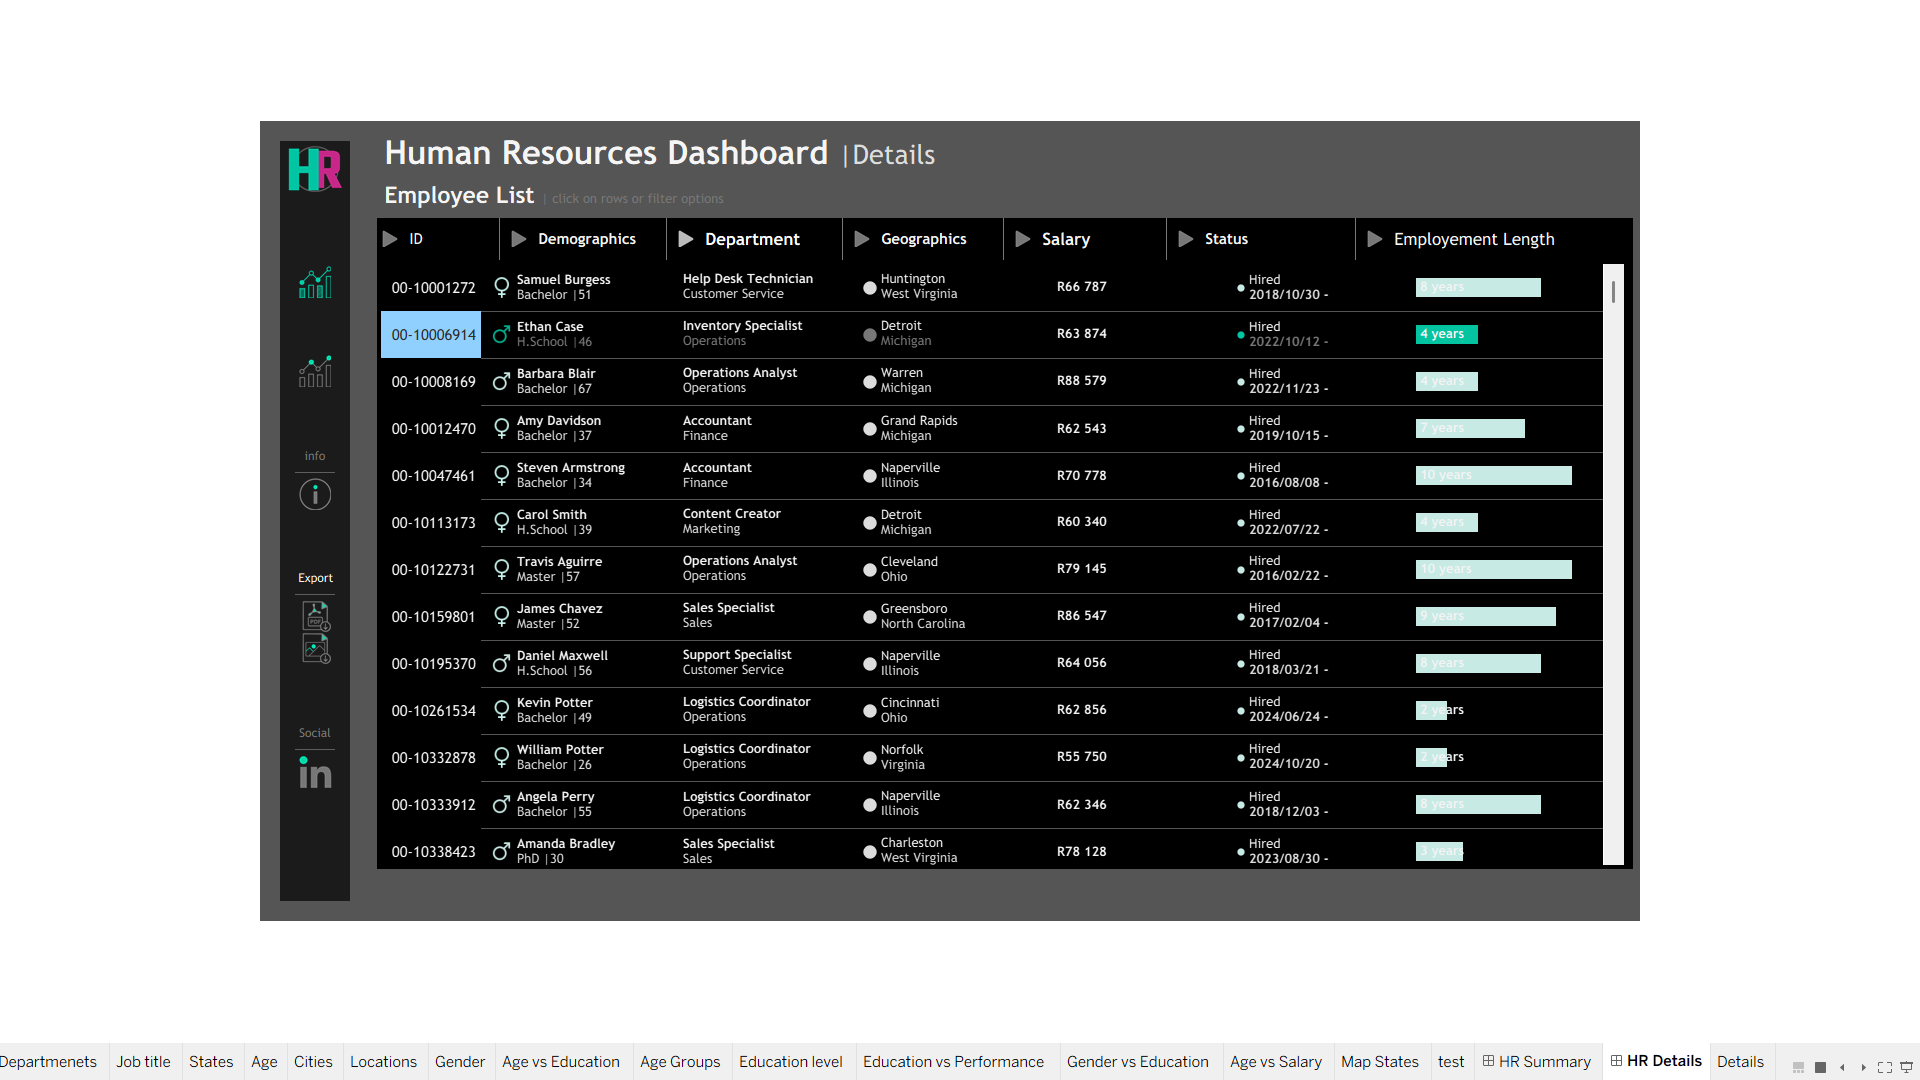

Layout of this report page (visuals, bound fields, positions):
{"tool":"tableau","page":{"name":"HR Details","canvas":[1400,800],"ordinal":0},"visuals":[{"type":"text","box":[117,7,676,49]},{"type":"blank","box":[793,7,580,49]},{"type":"image","param":"Image/Logo.png","box":[20,20,70,55]},{"type":"text","box":[117,56,1256,41]},{"type":"blank","box":[20,75,70,60]},{"type":"dashboard-object","box":[117,97,25,42]},{"type":"text","box":[142,97,91,42]},{"type":"blank","box":[233,97,13,254]},{"type":"dashboard-object","box":[246,97,25,42]},{"type":"text","box":[271,97,129,42]},{"type":"blank","box":[400,97,13,254]},{"type":"dashboard-object","box":[413,97,25,42]},{"type":"text","box":[438,97,138,42]},{"type":"blank","box":[576,97,13,254]},{"type":"dashboard-object","box":[589,97,25,42]},{"type":"text","box":[614,97,123,42]},{"type":"blank","box":[737,97,13,254]},{"type":"dashboard-object","box":[750,97,25,42]},{"type":"text","box":[775,97,125,42]},{"type":"blank","box":[900,97,13,254]},{"type":"dashboard-object","box":[913,97,25,42]},{"type":"text","box":[937.9,97,151,42]},{"type":"blank","box":[1088.9,97,13,254]},{"type":"dashboard-object","box":[1101.9,97,25,42]},{"type":"text","box":[1126.9,97,201,42]},{"type":"filter","title":"Details","param":"[federated.1f1amyv13imfoo151mt8w1kifsjf].[none:Calculation_2092984874586118:nk]","box":[585,116,148,49]},{"type":"filter","title":"Details","param":"[federated.1f1amyv13imfoo151mt8w1kifsjf].[sum:Salary:qk]","box":[746,116,150,68]},{"type":"filter","title":"Details","param":"[federated.1f1amyv13imfoo151mt8w1kifsjf].[none:Calculation_0745258869231616:nk]","box":[909,116,176,49]},{"type":"filter","title":"Details","param":"[federated.1f1amyv13imfoo151mt8w1kifsjf].[sum:Calculation_0047619442745344:qk]","box":[1097.9,116,226,68]},{"type":"filter","title":"Details","param":"[federated.1f1amyv13imfoo151mt8w1kifsjf].[none:Employee_ID:nk]","box":[117,139,116,53]},{"type":"filter","title":"Details","param":"[federated.1f1amyv13imfoo151mt8w1kifsjf].[none:Calculation_1135311092146178:nk]","box":[246,139,154,53]},{"type":"filter","title":"Details","param":"[federated.1f1amyv13imfoo151mt8w1kifsjf].[none:Department:nk]","box":[413,139,163,56]},{"type":"dashboard-object","box":[30,145,50,32]},{"type":"filter","title":"Details","param":"[federated.1f1amyv13imfoo151mt8w1kifsjf].[none:State:nk]","box":[585,165,148,49]},{"type":"filter","title":"Details","param":"[federated.1f1amyv13imfoo151mt8w1kifsjf].[none:Hiredate:ok]","box":[909,165,176,49]},{"type":"blank","box":[30,177,50,57.5]},{"type":"filter","title":"Details","param":"[federated.1f1amyv13imfoo151mt8w1kifsjf].[none:Calculation_2092984888410122:nk]","box":[246,192,154,53]},{"type":"filter","title":"Details","param":"[federated.1f1amyv13imfoo151mt8w1kifsjf].[none:Job Title:nk]","box":[413,195,163,56]},{"type":"filter","title":"Details","param":"[federated.1f1amyv13imfoo151mt8w1kifsjf].[none:City:nk]","box":[585,214,148,49]},{"type":"filter","title":"Details","param":"[federated.1f1amyv13imfoo151mt8w1kifsjf].[none:Termdate:ok]","box":[909,214,176,49]},{"type":"dashboard-object","box":[30,234.5,50,32]},{"type":"filter","title":"Details","param":"[federated.1f1amyv13imfoo151mt8w1kifsjf].[none:Education Level:nk]","box":[246,245,154,53]},{"type":"text","box":[92,256,1277,288]},{"type":"blank","box":[30,266.5,50,57.5]},{"type":"filter","title":"Details","param":"[federated.1f1amyv13imfoo151mt8w1kifsjf].[none:Gender:nk]","box":[246,298,154,53]},{"type":"text","box":[30,324,50,22]},{"type":"blank","box":[30,346,50,11]},{"type":"worksheet","title":"Details","mark":"Shape","rows":["Employee_ID"],"cols":["Calculation_1135311091269633","Calculation_1135311091269633","Calculation_1135311091269633","Calculation_1135311091269633","Calculation_1135311091269633","Calculation_0047619442745344"],"box":[117,351,1256,397]},{"type":"dashboard-object","box":[30,357,50,32]},{"type":"blank","box":[30,389,50,57.5]},{"type":"text","box":[30,446.5,50,22]},{"type":"blank","box":[30,468.5,50,11]},{"type":"dashboard-object","box":[30,479.5,50,32]},{"type":"dashboard-object","box":[30,511.5,50,32]},{"type":"blank","box":[30,543.5,50,57.5]},{"type":"text","box":[30,601,50,22]},{"type":"blank","box":[30,623,50,11]},{"type":"image","param":"Image/contact-linkedin.png","box":[30,634,50,34]}]}

Visuals, with their boxes on the page's 1400x800 design canvas (x1, y1, x2, y2). These are canvas units, not pixel positions in the 1920x1080 screenshot, which may show the page scaled, cropped or inside an application window:
text: 117:7:793:56
blank: 793:7:1373:56
image: 20:20:90:75
text: 117:56:1373:97
blank: 20:75:90:135
dashboard-object: 117:97:142:139
text: 142:97:233:139
blank: 233:97:246:351
dashboard-object: 246:97:271:139
text: 271:97:400:139
blank: 400:97:413:351
dashboard-object: 413:97:438:139
text: 438:97:576:139
blank: 576:97:589:351
dashboard-object: 589:97:614:139
text: 614:97:737:139
blank: 737:97:750:351
dashboard-object: 750:97:775:139
text: 775:97:900:139
blank: 900:97:913:351
dashboard-object: 913:97:938:139
text: 938:97:1089:139
blank: 1089:97:1102:351
dashboard-object: 1102:97:1127:139
text: 1127:97:1328:139
"Details" filter: 585:116:733:165
"Details" filter: 746:116:896:184
"Details" filter: 909:116:1085:165
"Details" filter: 1098:116:1324:184
"Details" filter: 117:139:233:192
"Details" filter: 246:139:400:192
"Details" filter: 413:139:576:195
dashboard-object: 30:145:80:177
"Details" filter: 585:165:733:214
"Details" filter: 909:165:1085:214
blank: 30:177:80:234
"Details" filter: 246:192:400:245
"Details" filter: 413:195:576:251
"Details" filter: 585:214:733:263
"Details" filter: 909:214:1085:263
dashboard-object: 30:234:80:266
"Details" filter: 246:245:400:298
text: 92:256:1369:544
blank: 30:266:80:324
"Details" filter: 246:298:400:351
text: 30:324:80:346
blank: 30:346:80:357
"Details" worksheet (Shape marks): 117:351:1373:748
dashboard-object: 30:357:80:389
blank: 30:389:80:446
text: 30:446:80:468
blank: 30:468:80:480
dashboard-object: 30:480:80:512
dashboard-object: 30:512:80:544
blank: 30:544:80:601
text: 30:601:80:623
blank: 30:623:80:634
image: 30:634:80:668
